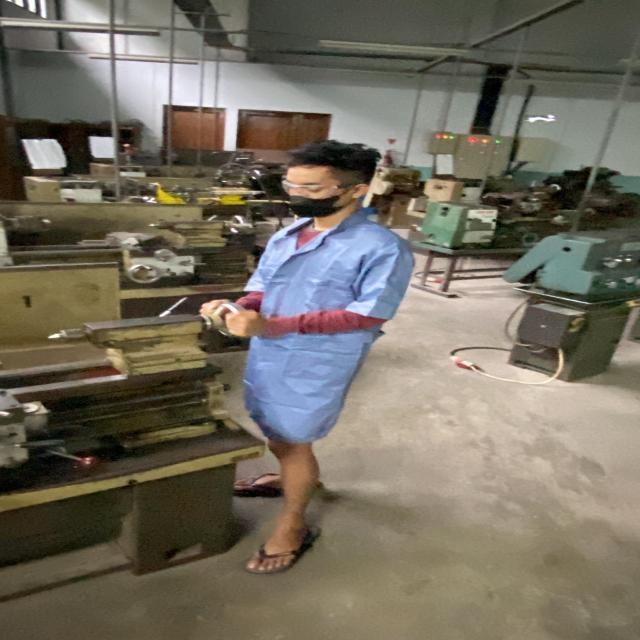glasses: (276, 177, 360, 197)
